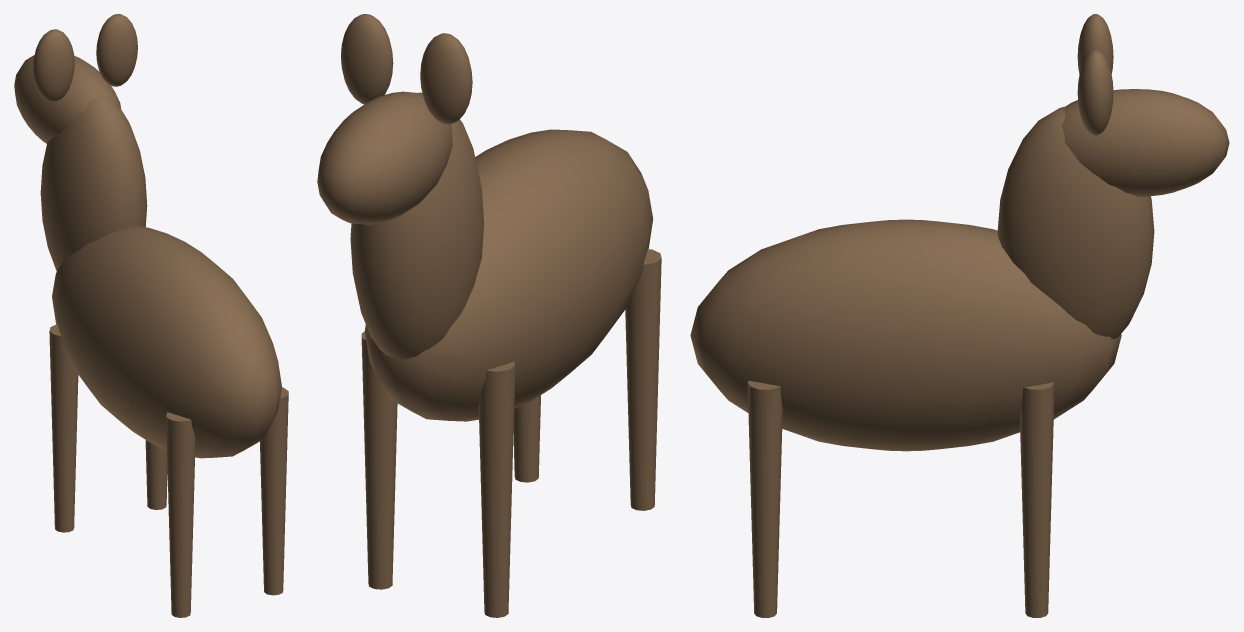
File: Deer.fbx
3 views of the same model, side by side, from view 1: azimuth 30°, elevation 25°; view 2: azimuth 150°, elevation 25°; view 3: azimuth 270°, elevation 25° (orthographic). The views are drawn at different scales.
Visible parts, largest first — view 1: Body.053, Head.005; view 2: Body.053, Head.005; view 3: Body.053, Head.005.
Part boxes in pixels (x1,y1,x2,y2): Body.053: [33, 14, 288, 617]; Head.005: [14, 55, 120, 143]; Body.053: [341, 14, 661, 617]; Head.005: [317, 91, 452, 224]; Body.053: [690, 14, 1154, 617]; Head.005: [1061, 89, 1229, 196].
Bounding box in the file's own units: 0.56 × 1.87 × 1.65.
